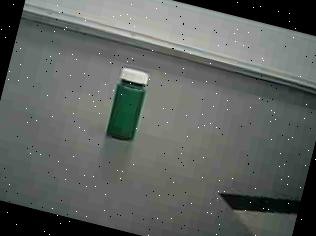Bottle C: (96, 58, 160, 148)
